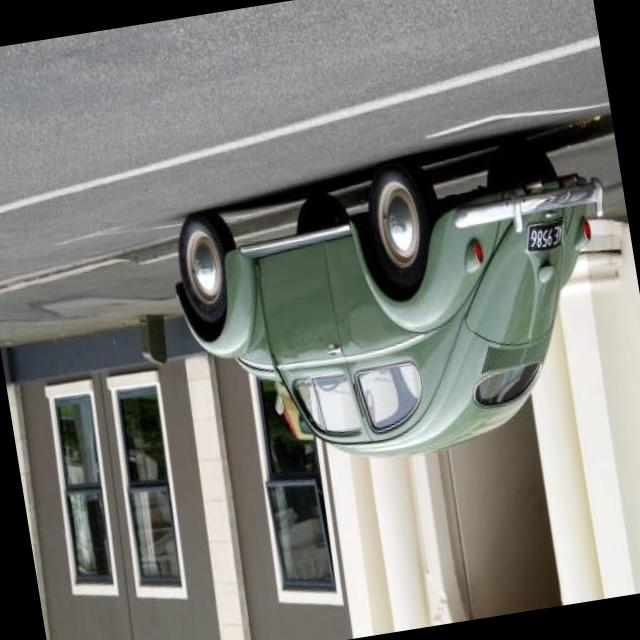car: (166, 152, 640, 478)
